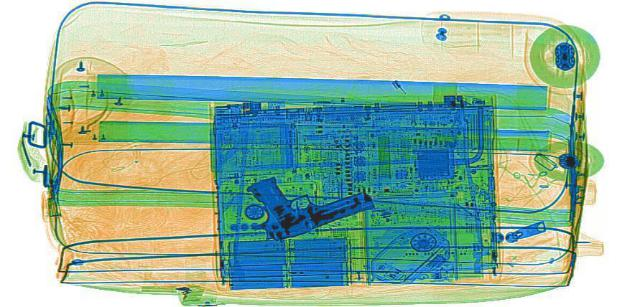Gun: (197, 159, 387, 240)
